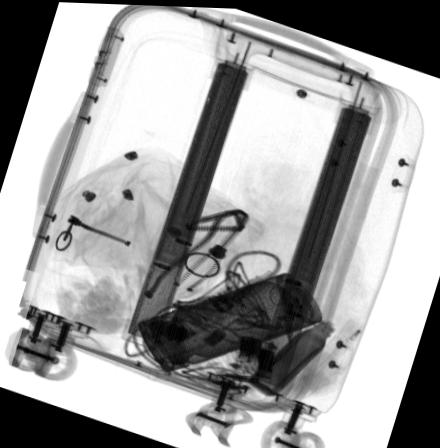Scissors: (267, 280, 307, 343)
